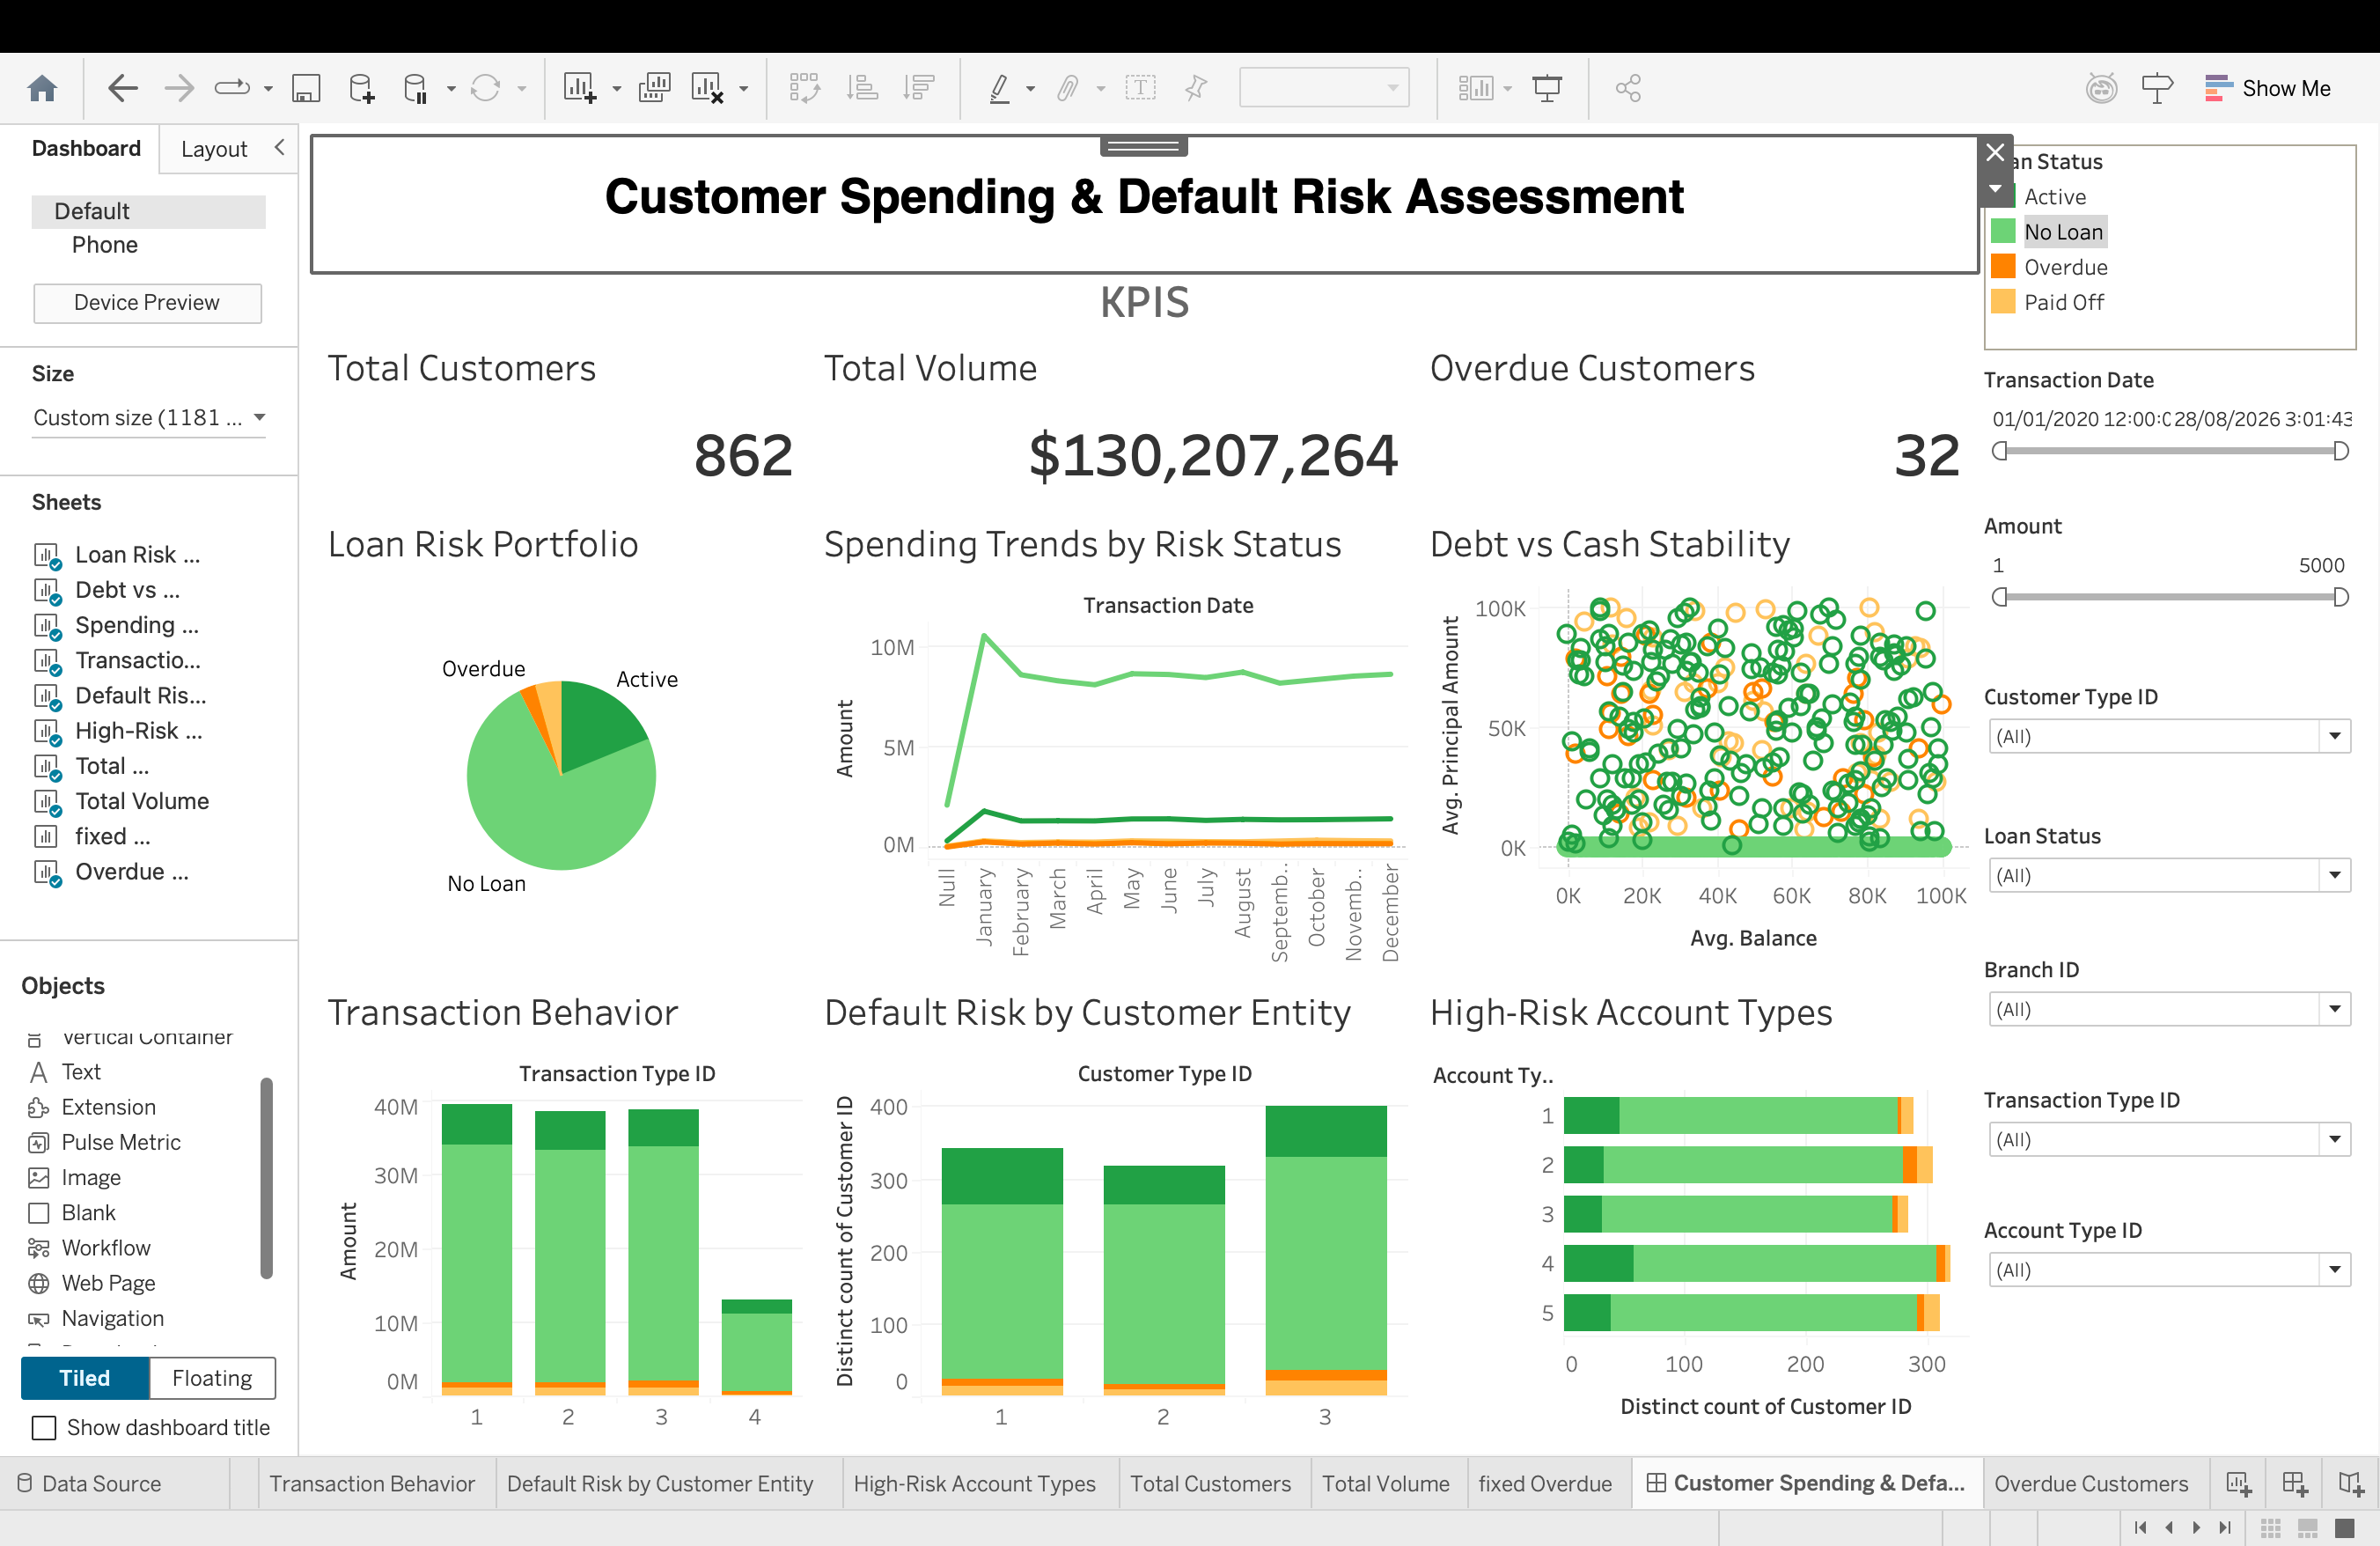

Layout of this report page (visuals, bound fields, positions):
{"tool":"tableau","page":{"name":"Customer Spending & Default Risk Assessment","canvas":[1181,756],"ordinal":0},"visuals":[{"type":"text","box":[8,8,945,76]},{"type":"legend","title":"Loan Risk Portfolio","param":"[federated.1b963q51tloi0z1b1s34x10bvagw].[none:Loan_Status:nk]","box":[953,8,220,125]},{"type":"text","box":[8,84,945,32]},{"type":"worksheet","title":"Total Customers","mark":"Automatic","box":[8,116,281.8,100]},{"type":"worksheet","title":"Total Volume","mark":"Automatic","box":[289.8,116,344.3,100]},{"type":"worksheet","title":"Overdue Customers","mark":"Automatic","box":[634.1,116,319,100]},{"type":"filter","title":"Spending Trends by Risk Status","param":"[federated.1b963q51tloi0z1b1s34x10bvagw].[none:TransactionDate:qk]","box":[953,133,220,83]},{"type":"worksheet","title":"Loan Risk Portfolio","mark":"Pie","box":[8,216,281.8,266]},{"type":"worksheet","title":"Spending Trends by Risk Status","mark":"Automatic","rows":["Amount"],"cols":["TransactionDate"],"box":[289.8,216,344.3,266]},{"type":"worksheet","title":"Debt vs Cash Stability","mark":"Automatic","rows":["PrincipalAmount"],"cols":["Balance"],"box":[634.1,216,319,266]},{"type":"filter","title":"Spending Trends by Risk Status","param":"[federated.1b963q51tloi0z1b1s34x10bvagw].[none:Amount:qk]","box":[953,216,220,97]},{"type":"filter","title":"Default Risk by Customer Entity","param":"[federated.1b963q51tloi0z1b1s34x10bvagw].[none:CustomerTypeID:ok]","box":[953,313,220,79]},{"type":"filter","title":"Loan Risk Portfolio","param":"[federated.1b963q51tloi0z1b1s34x10bvagw].[none:Loan_Status:nk]","box":[953,392,220,76]},{"type":"filter","title":"Debt vs Cash Stability","param":"[federated.1b963q51tloi0z1b1s34x10bvagw].[none:BranchID:ok]","box":[953,468,220,74]},{"type":"worksheet","title":"Transaction Behavior","mark":"Automatic","rows":["Amount"],"cols":["TransactionTypeID"],"box":[8,482,281.8,266]},{"type":"worksheet","title":"Default Risk by Customer Entity","mark":"Automatic","rows":["CustomerID"],"cols":["CustomerTypeID"],"box":[289.8,482,344.3,266]},{"type":"worksheet","title":"High-Risk Account Types","mark":"Bar","rows":["AccountTypeID"],"cols":["CustomerID"],"box":[634.1,482,319,266]},{"type":"filter","title":"Transaction Behavior","param":"[federated.1b963q51tloi0z1b1s34x10bvagw].[none:TransactionTypeID:ok]","box":[953,542,220,74]},{"type":"filter","title":"High-Risk Account Types","param":"[federated.1b963q51tloi0z1b1s34x10bvagw].[none:AccountTypeID:ok]","box":[953,616,220,84]}]}

Visuals, with their boxes on the page's 1181x756 design canvas (x1, y1, x2, y2). These are canvas units, not pixel positions in the 2380x1546 screenshot, which may show the page scaled, cropped or inside an application window:
text: 8,8,953,84
"Loan Risk Portfolio" legend: 953,8,1173,133
text: 8,84,953,116
"Total Customers" worksheet: 8,116,290,216
"Total Volume" worksheet: 290,116,634,216
"Overdue Customers" worksheet: 634,116,953,216
"Spending Trends by Risk Status" filter: 953,133,1173,216
"Loan Risk Portfolio" worksheet (Pie marks): 8,216,290,482
"Spending Trends by Risk Status" worksheet: 290,216,634,482
"Debt vs Cash Stability" worksheet: 634,216,953,482
"Spending Trends by Risk Status" filter: 953,216,1173,313
"Default Risk by Customer Entity" filter: 953,313,1173,392
"Loan Risk Portfolio" filter: 953,392,1173,468
"Debt vs Cash Stability" filter: 953,468,1173,542
"Transaction Behavior" worksheet: 8,482,290,748
"Default Risk by Customer Entity" worksheet: 290,482,634,748
"High-Risk Account Types" worksheet (Bar marks): 634,482,953,748
"Transaction Behavior" filter: 953,542,1173,616
"High-Risk Account Types" filter: 953,616,1173,700
